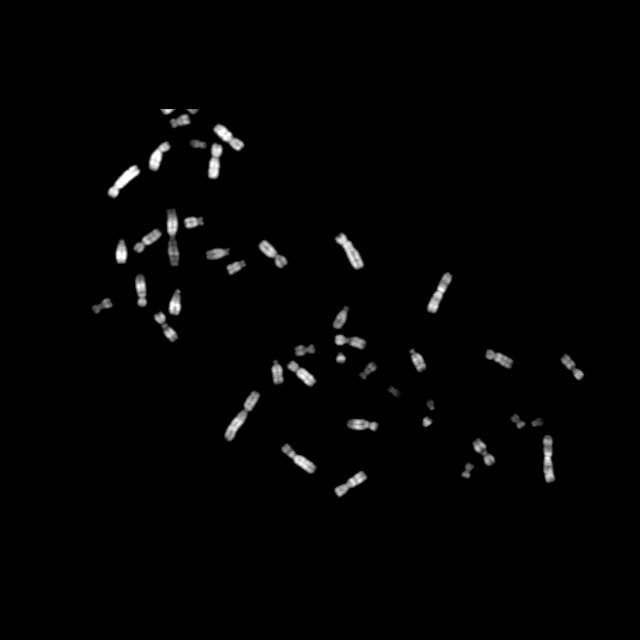chromosome: (225, 392, 259, 441), (108, 166, 140, 198), (335, 233, 363, 269), (428, 273, 452, 313), (282, 445, 316, 473), (213, 123, 244, 151), (335, 471, 367, 497), (259, 240, 287, 268), (287, 359, 315, 386), (154, 312, 178, 342), (134, 229, 162, 253), (167, 210, 178, 266), (472, 438, 494, 466), (561, 355, 583, 381), (150, 142, 170, 170), (543, 436, 555, 482), (209, 144, 223, 178), (486, 350, 512, 368), (336, 334, 364, 348), (348, 418, 378, 430), (136, 274, 147, 306), (333, 306, 349, 328), (409, 349, 425, 371), (92, 298, 112, 314), (170, 289, 182, 315), (206, 248, 229, 260), (227, 260, 246, 274), (116, 240, 127, 264), (360, 362, 376, 378), (172, 114, 190, 128), (272, 361, 283, 383), (511, 414, 525, 430), (185, 216, 203, 228), (296, 346, 314, 356), (460, 463, 472, 477), (389, 386, 401, 398), (335, 352, 345, 364), (191, 140, 205, 148), (532, 418, 542, 428), (422, 417, 432, 427), (428, 400, 434, 410)
